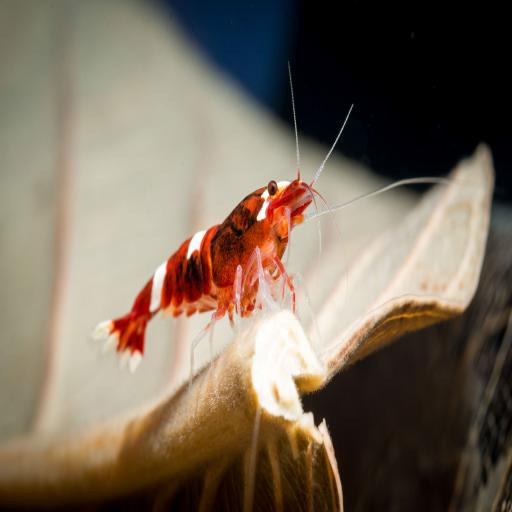Shrimp: (87, 49, 477, 390)
